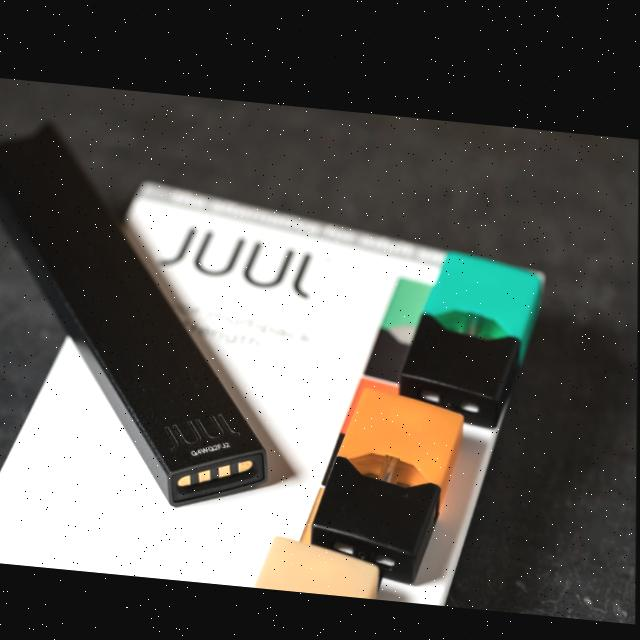vape: (0, 112, 273, 511)
